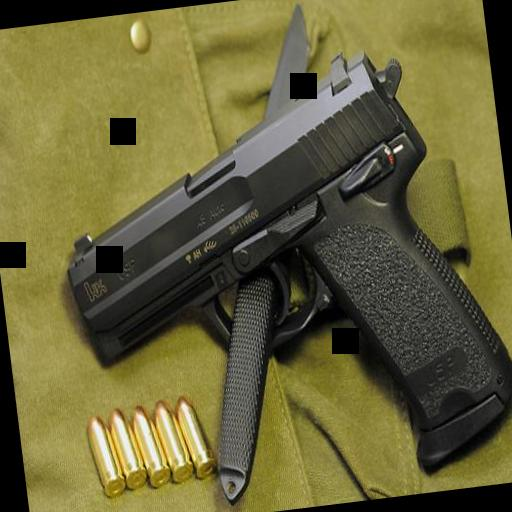Handgun: (40, 31, 512, 512)
